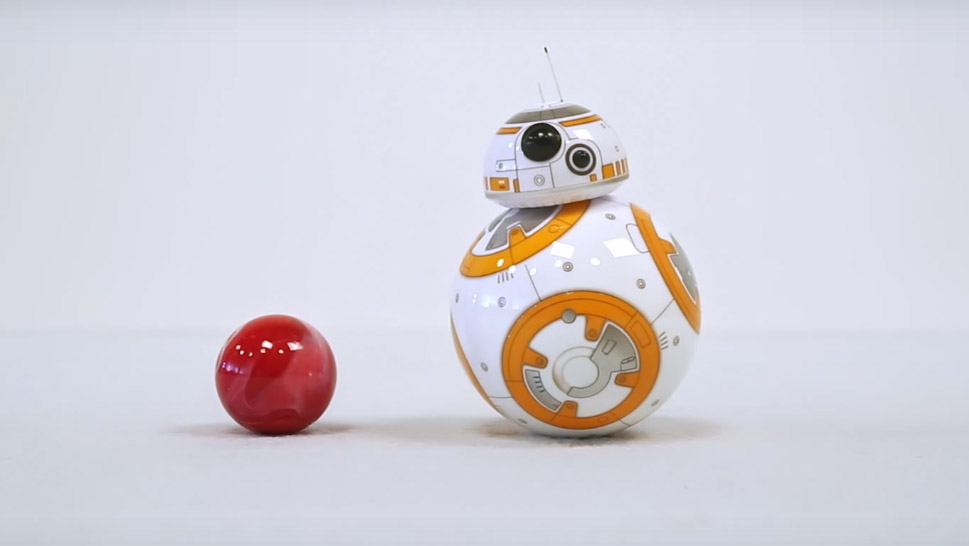bb8: (448, 101, 702, 438)
